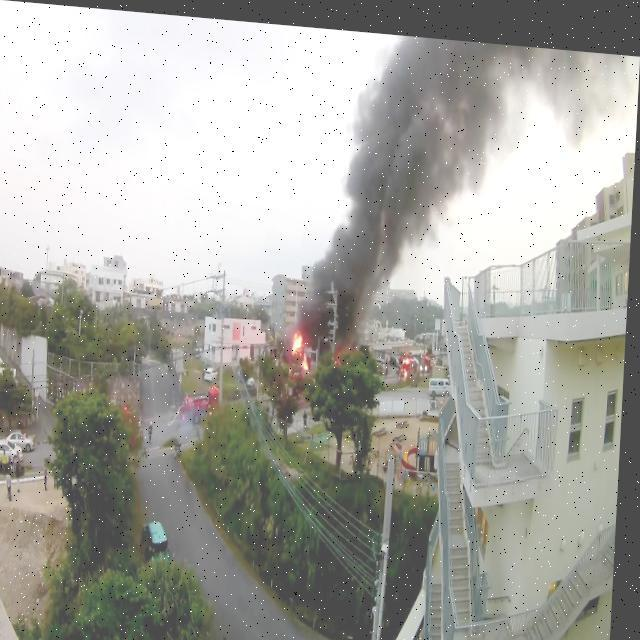Fire: (292, 325, 308, 347), (304, 348, 313, 362)
